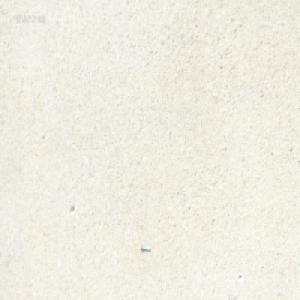Nail: (140, 244, 150, 252)
